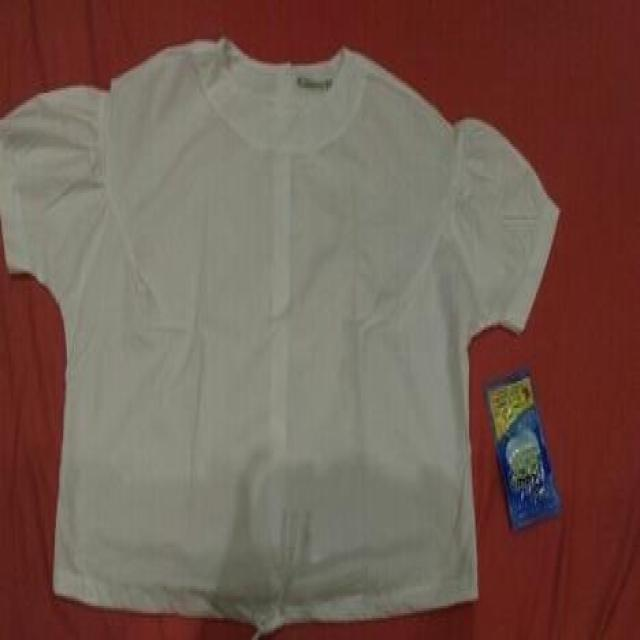short-sleeve-top: (18, 46, 566, 614)
